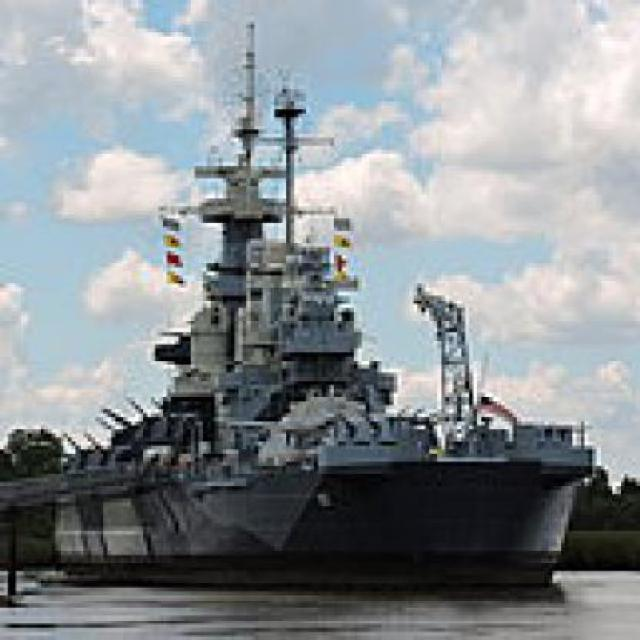warship2: (17, 21, 610, 616)
